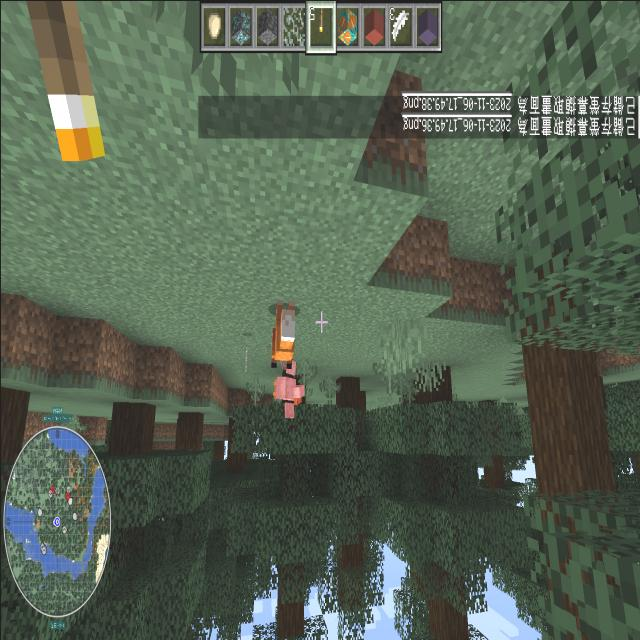Fox: (267, 302, 299, 376)
